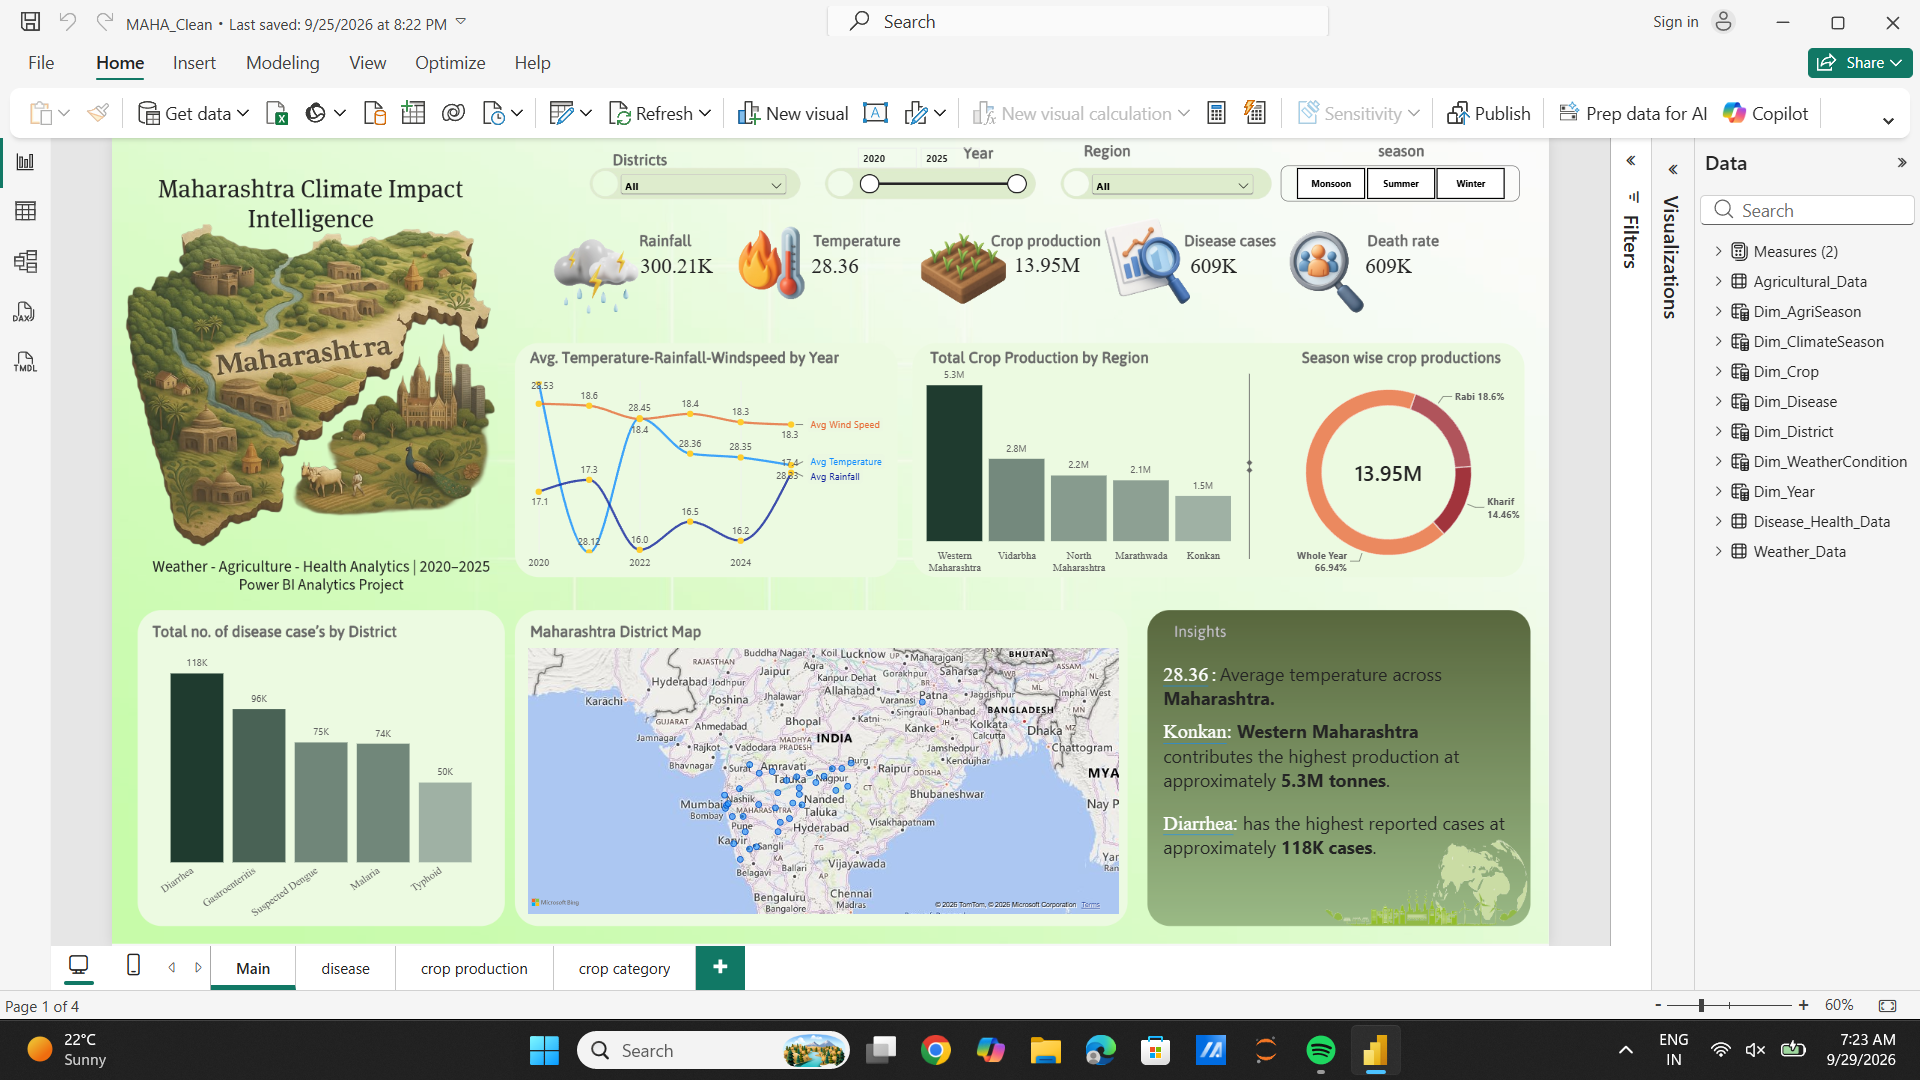

The page's visual inventory and layout, read from the dashboard file:
{"tool":"powerbi","page":{"name":"Main","canvas":[1920,1080],"ordinal":0},"visuals":[{"type":"cardVisual","fields":{"Data":["Measures (2).Total Rainfall"]},"box":[689,117.8,143.2,106.8],"z":0},{"type":"cardVisual","fields":{"Data":["Measures (2).Avg Temperature"]},"box":[917.8,117.8,174.8,106.7],"z":1000},{"type":"cardVisual","fields":{"Data":["Measures (2).Total Production"]},"box":[1189.7,117.5,174.8,106.7],"z":2000},{"type":"cardVisual","fields":{"Data":["Measures (2).Total Cases"]},"box":[1424.4,117.8,209.4,106.6],"z":3000},{"type":"cardVisual","fields":{"Data":["Measures (2).Total Deaths"]},"box":[1658.1,117.7,174.8,106.7],"z":4000},{"type":"slicer","fields":{"Values":["Dim_District.District"]},"box":[674.6,44.1,231.4,41.5],"z":5000},{"type":"slicer","fields":{"Values":["Dim_Year.Year"]},"box":[988.1,8.5,236.4,77.1],"z":6000},{"type":"slicer","fields":{"Values":["Dim_District.Region"]},"box":[1304.2,44.1,225.4,41.5],"z":7000},{"type":"columnChart","fields":{"Category":["Dim_District.Region"],"Y":["dax demo.Total Production"]},"box":[1047.5,293.2,482.2,290.7],"z":8000},{"type":"lineChart","fields":{"Category":["Dim_Year.Year"],"Y":["Measures (2).Avg Temperature"],"Y2":["Measures (2).Avg Rainfall","Measures (2).Avg Wind Speed"]},"box":[555.8,316.6,480.4,261.4],"z":9000},{"type":"columnChart","fields":{"Y":["Measures (2).Total Cases"],"Category":["Disease_Health_Data.DISEASE"]},"box":[45.4,681.4,470.1,376.3],"z":10000},{"type":"slicer","fields":{"Values":["Disease_Health_Data.SEASON"]},"box":[1561.3,37.1,319.4,48.4],"z":11000},{"type":"donutChart","fields":{"Category":["Agricultural_Data.SEASON"],"Y":["Measures (2).Total Production"]},"box":[1529.5,276.1,351.5,342.3],"z":12000},{"type":"map","fields":{"Category":["Dim_District.District"]},"box":[556.7,681.4,788.7,354.6],"z":13000},{"type":"textbox","box":[1404.3,699.4,462,77.3],"z":14000},{"type":"textbox","box":[906,75,150,150],"z":15000},{"type":"textbox","box":[45,75,470,150],"z":16000},{"type":"textbox","box":[1404.3,776.7,462,117.8],"z":16001},{"type":"textbox","box":[1404.3,894.5,462,128.8],"z":16002}]}

Visuals, with their boxes on the page's 1920x1080 design canvas (x1, y1, x2, y2). These are canvas units, not pixel positions in the 1920x1080 screenshot, which may show the page scaled, cropped or inside an application window:
cardVisual - Measures (2).Total Rainfall: bbox=(689, 118, 832, 225)
cardVisual - Measures (2).Avg Temperature: bbox=(918, 118, 1093, 224)
cardVisual - Measures (2).Total Production: bbox=(1190, 118, 1364, 224)
cardVisual - Measures (2).Total Cases: bbox=(1424, 118, 1634, 224)
cardVisual - Measures (2).Total Deaths: bbox=(1658, 118, 1833, 224)
slicer - Dim_District.District: bbox=(675, 44, 906, 86)
slicer - Dim_Year.Year: bbox=(988, 8, 1224, 86)
slicer - Dim_District.Region: bbox=(1304, 44, 1530, 86)
columnChart - Dim_District.Region x dax demo.Total Production: bbox=(1048, 293, 1530, 584)
lineChart - Dim_Year.Year x Measures (2).Avg Temperature: bbox=(556, 317, 1036, 578)
columnChart - Measures (2).Total Cases x Disease_Health_Data.DISEASE: bbox=(45, 681, 516, 1058)
slicer - Disease_Health_Data.SEASON: bbox=(1561, 37, 1881, 86)
donutChart - Agricultural_Data.SEASON x Measures (2).Total Production: bbox=(1530, 276, 1881, 618)
map - Dim_District.District: bbox=(557, 681, 1345, 1036)
textbox: bbox=(1404, 699, 1866, 777)
textbox: bbox=(906, 75, 1056, 225)
textbox: bbox=(45, 75, 515, 225)
textbox: bbox=(1404, 777, 1866, 894)
textbox: bbox=(1404, 894, 1866, 1023)
